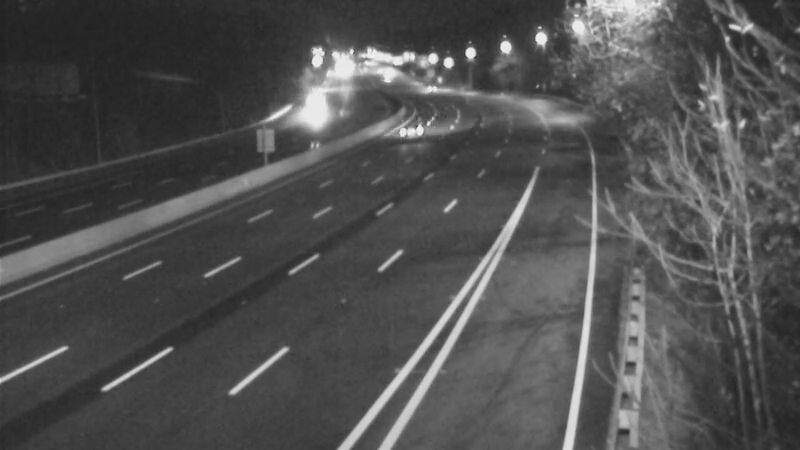vehicle: (400, 63, 450, 113), (387, 100, 437, 150), (287, 80, 337, 130)
